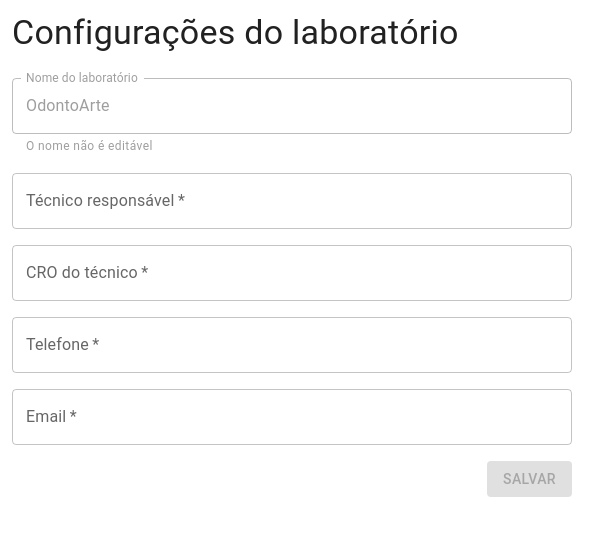
Test: SettingsPage › bloqueia submit quando email é inválido
Expected: the button "Salvar" is shown, x1=487 y1=461 x2=572 y2=497
Step 1. Type "Maria" into the field labelled "Técnico responsável *" → (292, 201), box x1=12 y1=173 x2=572 y2=229
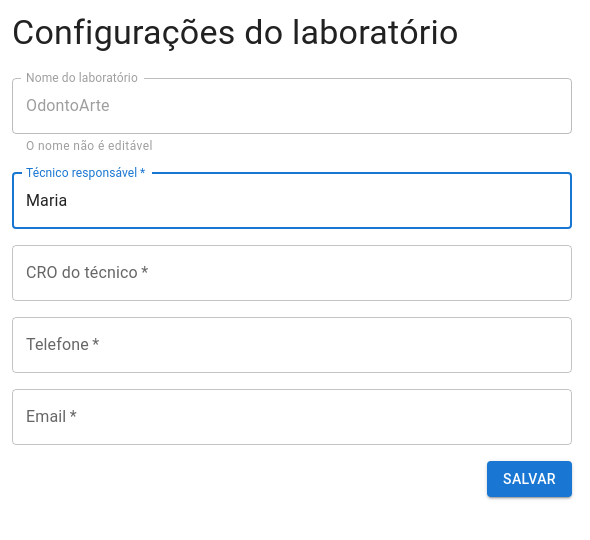
Step 2. Type "CRO 1" into the field labelled "CRO do técnico *" → (292, 273), box x1=12 y1=245 x2=572 y2=301
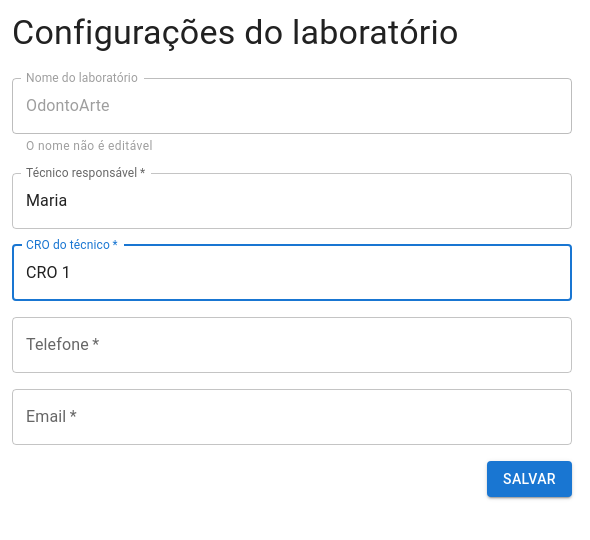
Step 3. Type "21999998888" into the field labelled "Telefone *" → (292, 345), box x1=12 y1=317 x2=572 y2=373
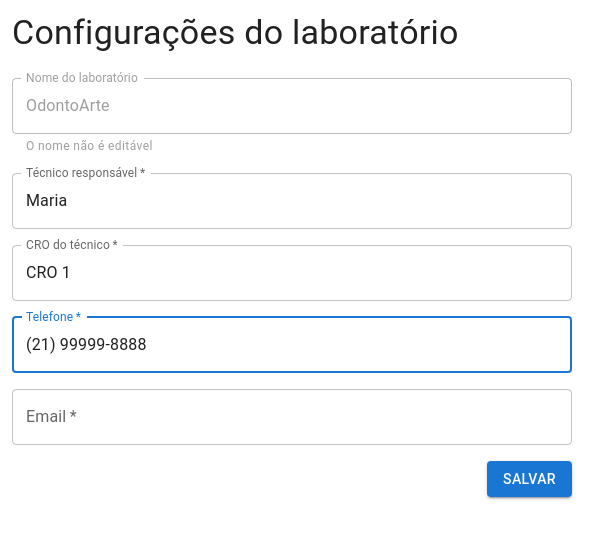
Step 4. Type "invalido" into the field labelled "Email *" → (292, 417), box x1=12 y1=389 x2=572 y2=445
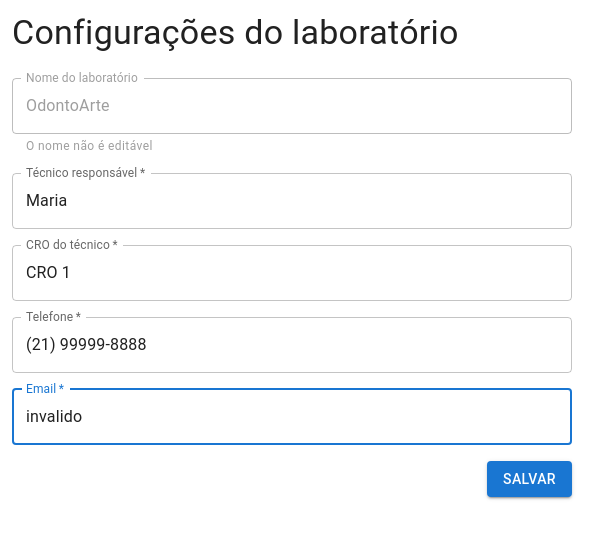
Step 5. Click the button "Salvar" → click(530, 479), box x1=487 y1=461 x2=572 y2=497
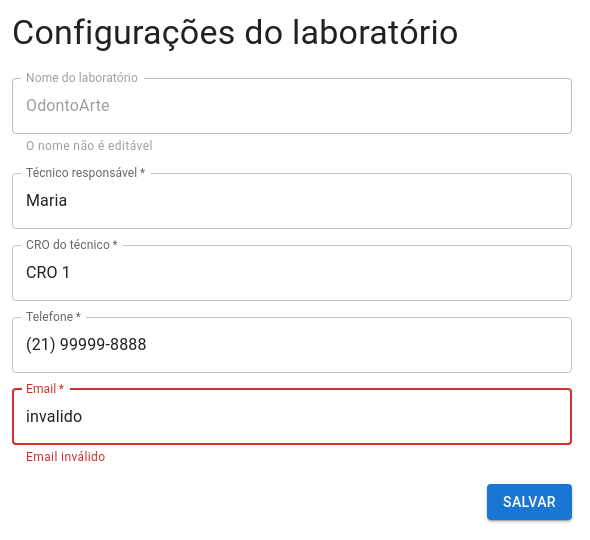
Expected: the text "Email inválido" is shown, x1=26 y1=450 x2=106 y2=464
